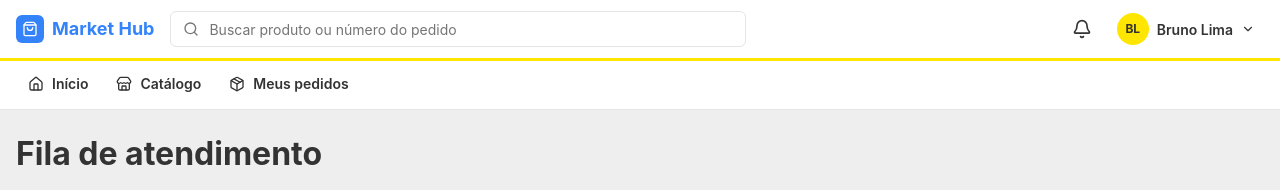
Scenario: AppLayout › sends a free-text search from the header to the catalog
The width and height of the screenshot is (1280, 190).
In the search field labelled "Buscar": [470, 29] box [208,18,734,40], type "tenis"
Then press Enter
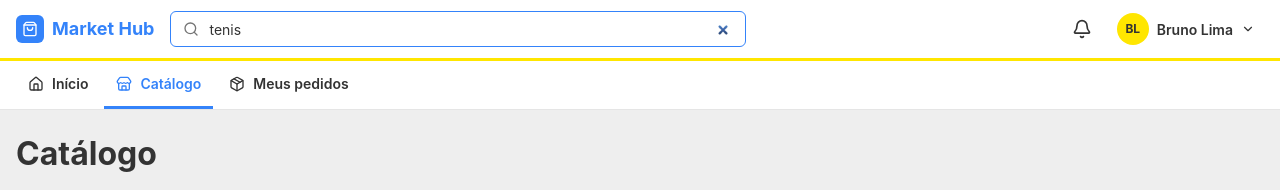
Expected: the heading "Catálogo" is shown, [16,134,157,173]
